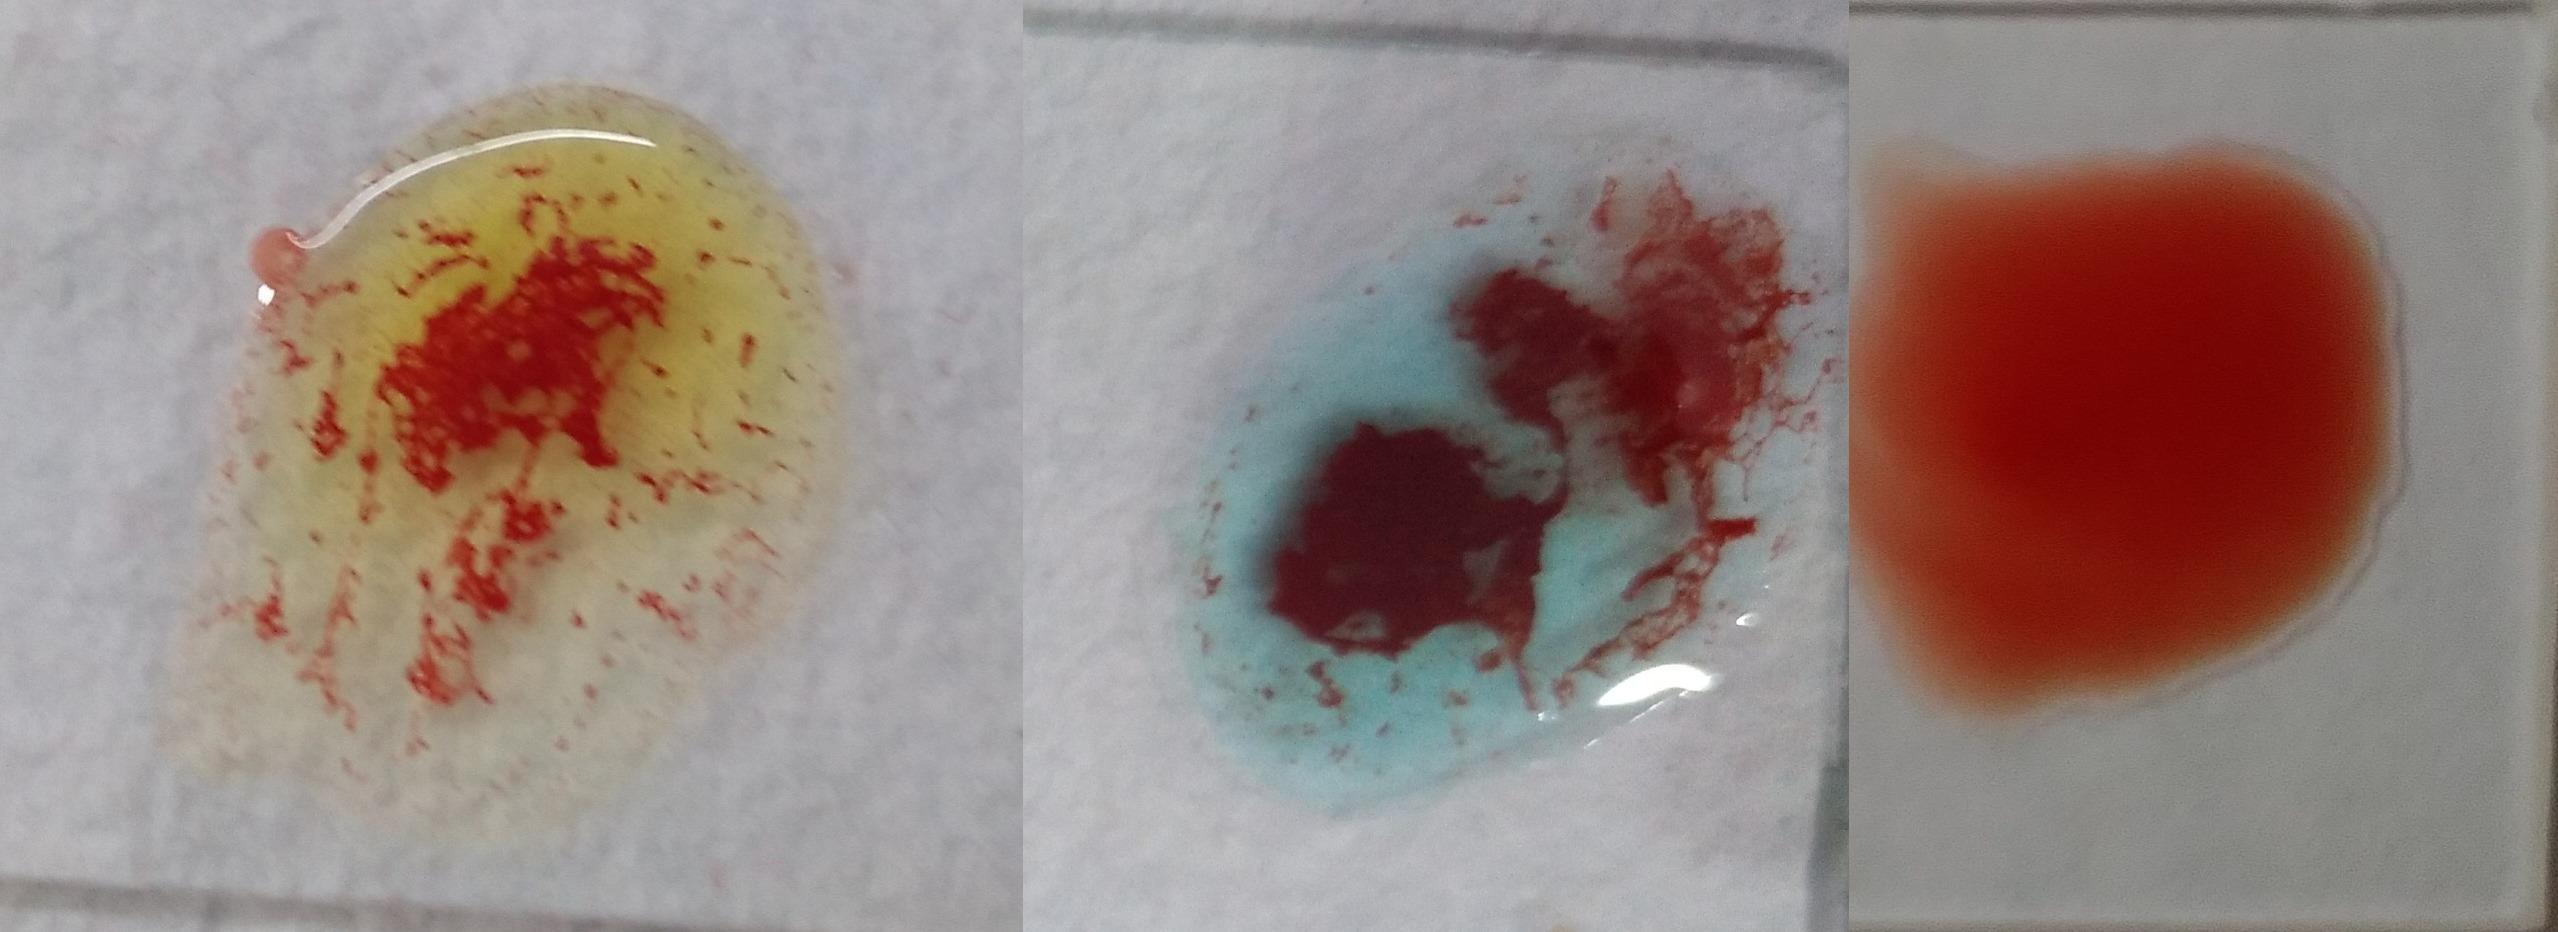A: (1184, 118, 1788, 793)
B: (207, 85, 817, 847)
